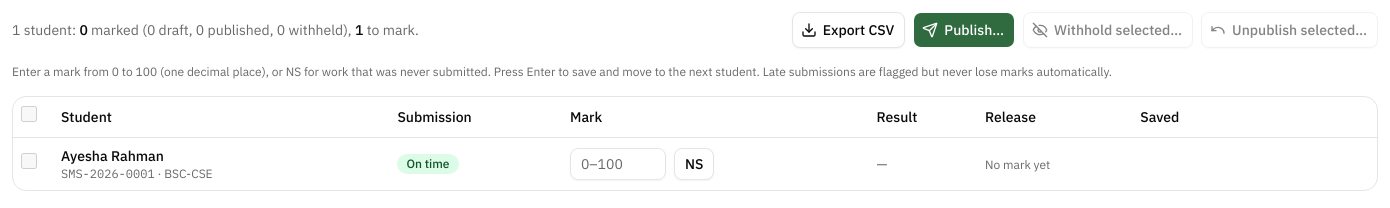
Test: MarksheetGrid › shows the classification as you type, before anything is saved
In the field with placeholder "0–100": (618, 164) [570,148,666,180], type "69.5"
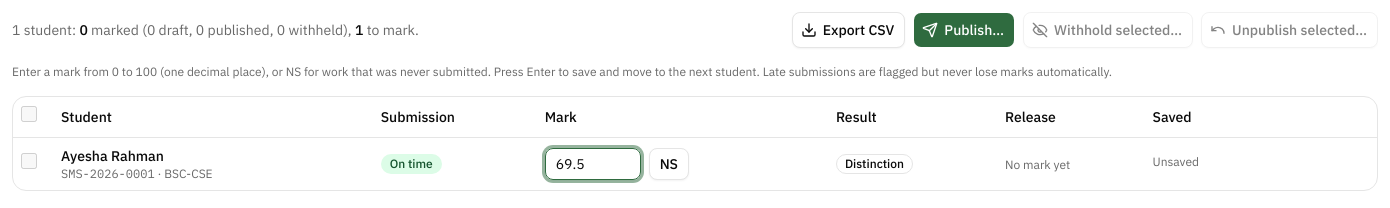
Result: the text "Distinction" is shown at [836,154,913,174]
Clear the field named "Mark for Ayesha Rahman": (593, 164) [545,148,641,180]
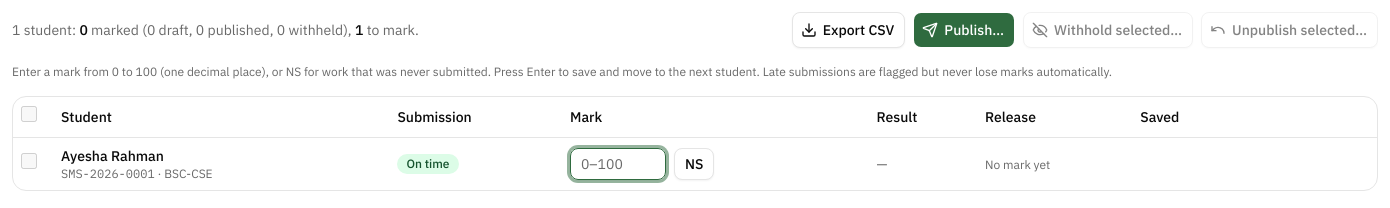
In the field with placeholder "0–100": (618, 164) [570,148,666,180], type "39.4"
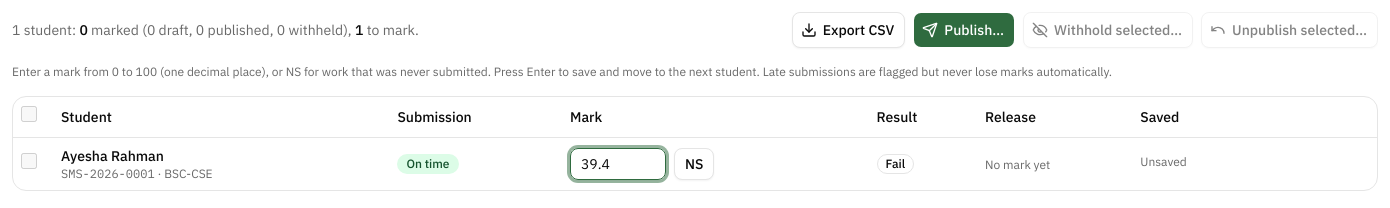
Result: the text "Fail" is shown at [876,154,914,174]
Result: the text "Unsaved" is shown at [1140,154,1187,168]
